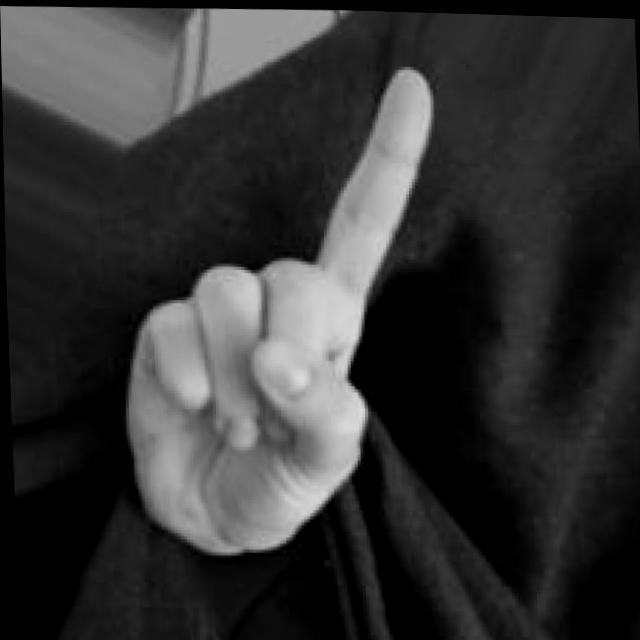I: (73, 40, 473, 584)
